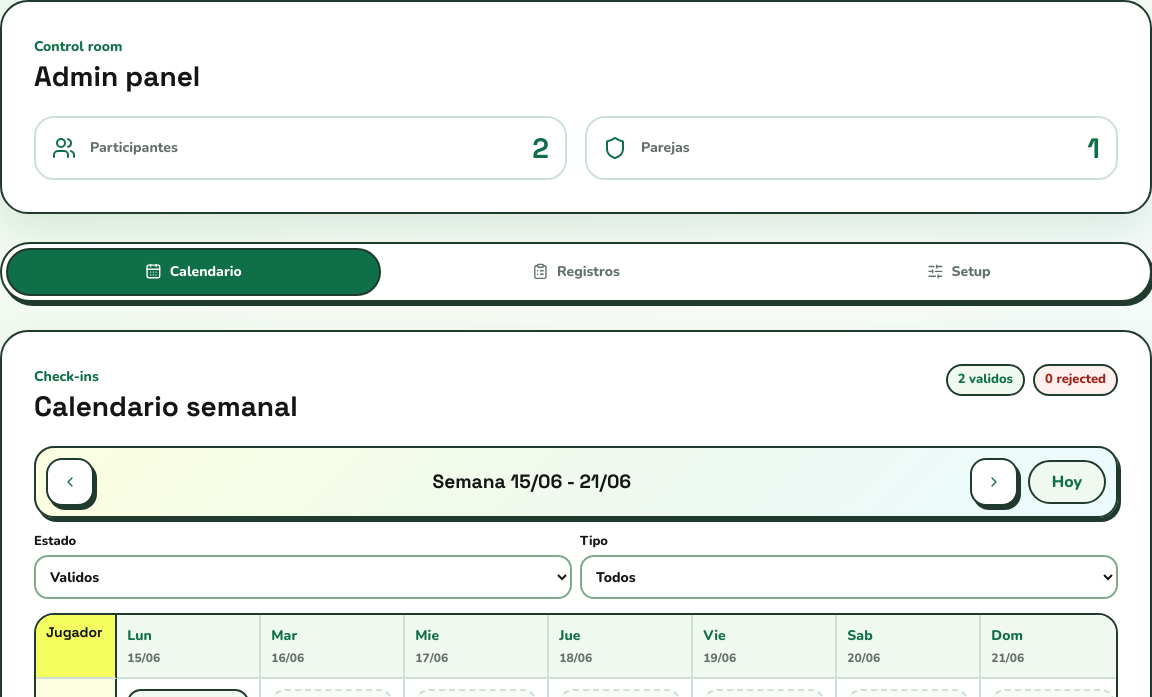
it: admin screen renders recent check-ins and token sections
(page scrolled)
Click the tab "Registros".
click(576, 272)  # box x1=389 y1=248 x2=763 y2=296
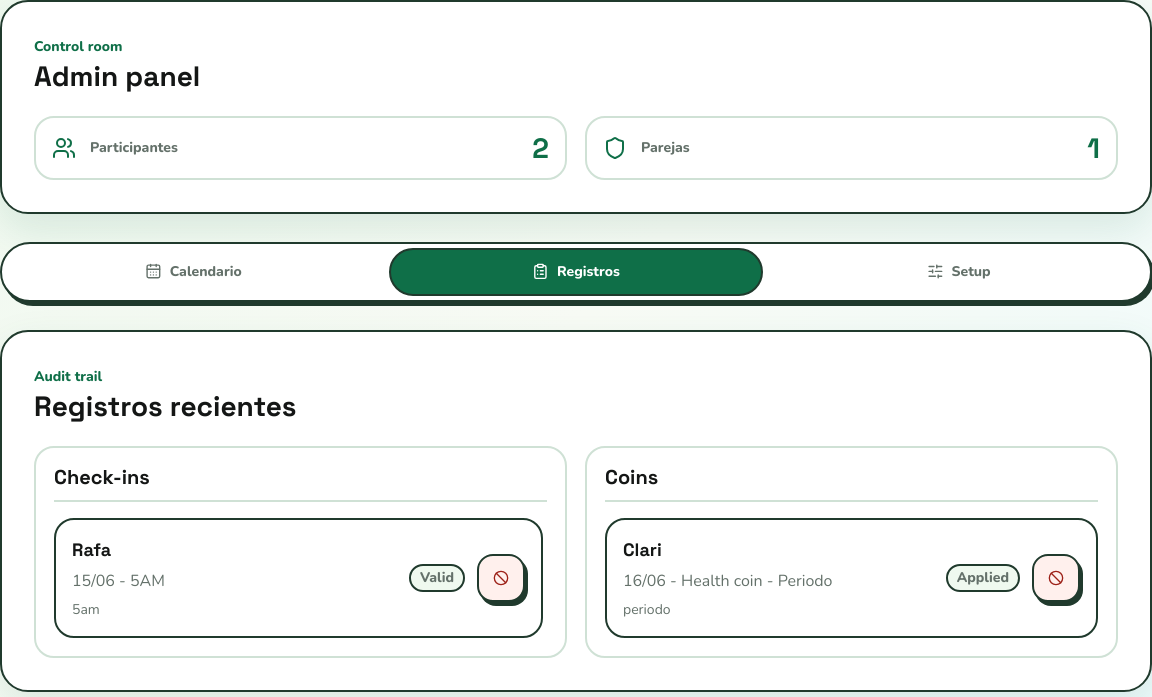
Expected: the heading "Check-ins" is shown, x1=54 y1=466 x2=547 y2=502
Now the heading "Registros recientes" is shown, box x1=34 y1=388 x2=296 y2=424
Now the heading "Coins" is shown, box x1=605 y1=466 x2=1098 y2=502
